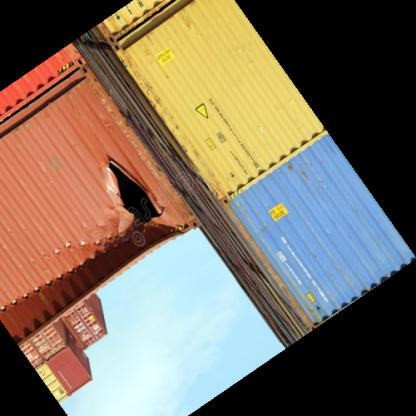Damage: (10, 246, 142, 328), (97, 150, 173, 262)
